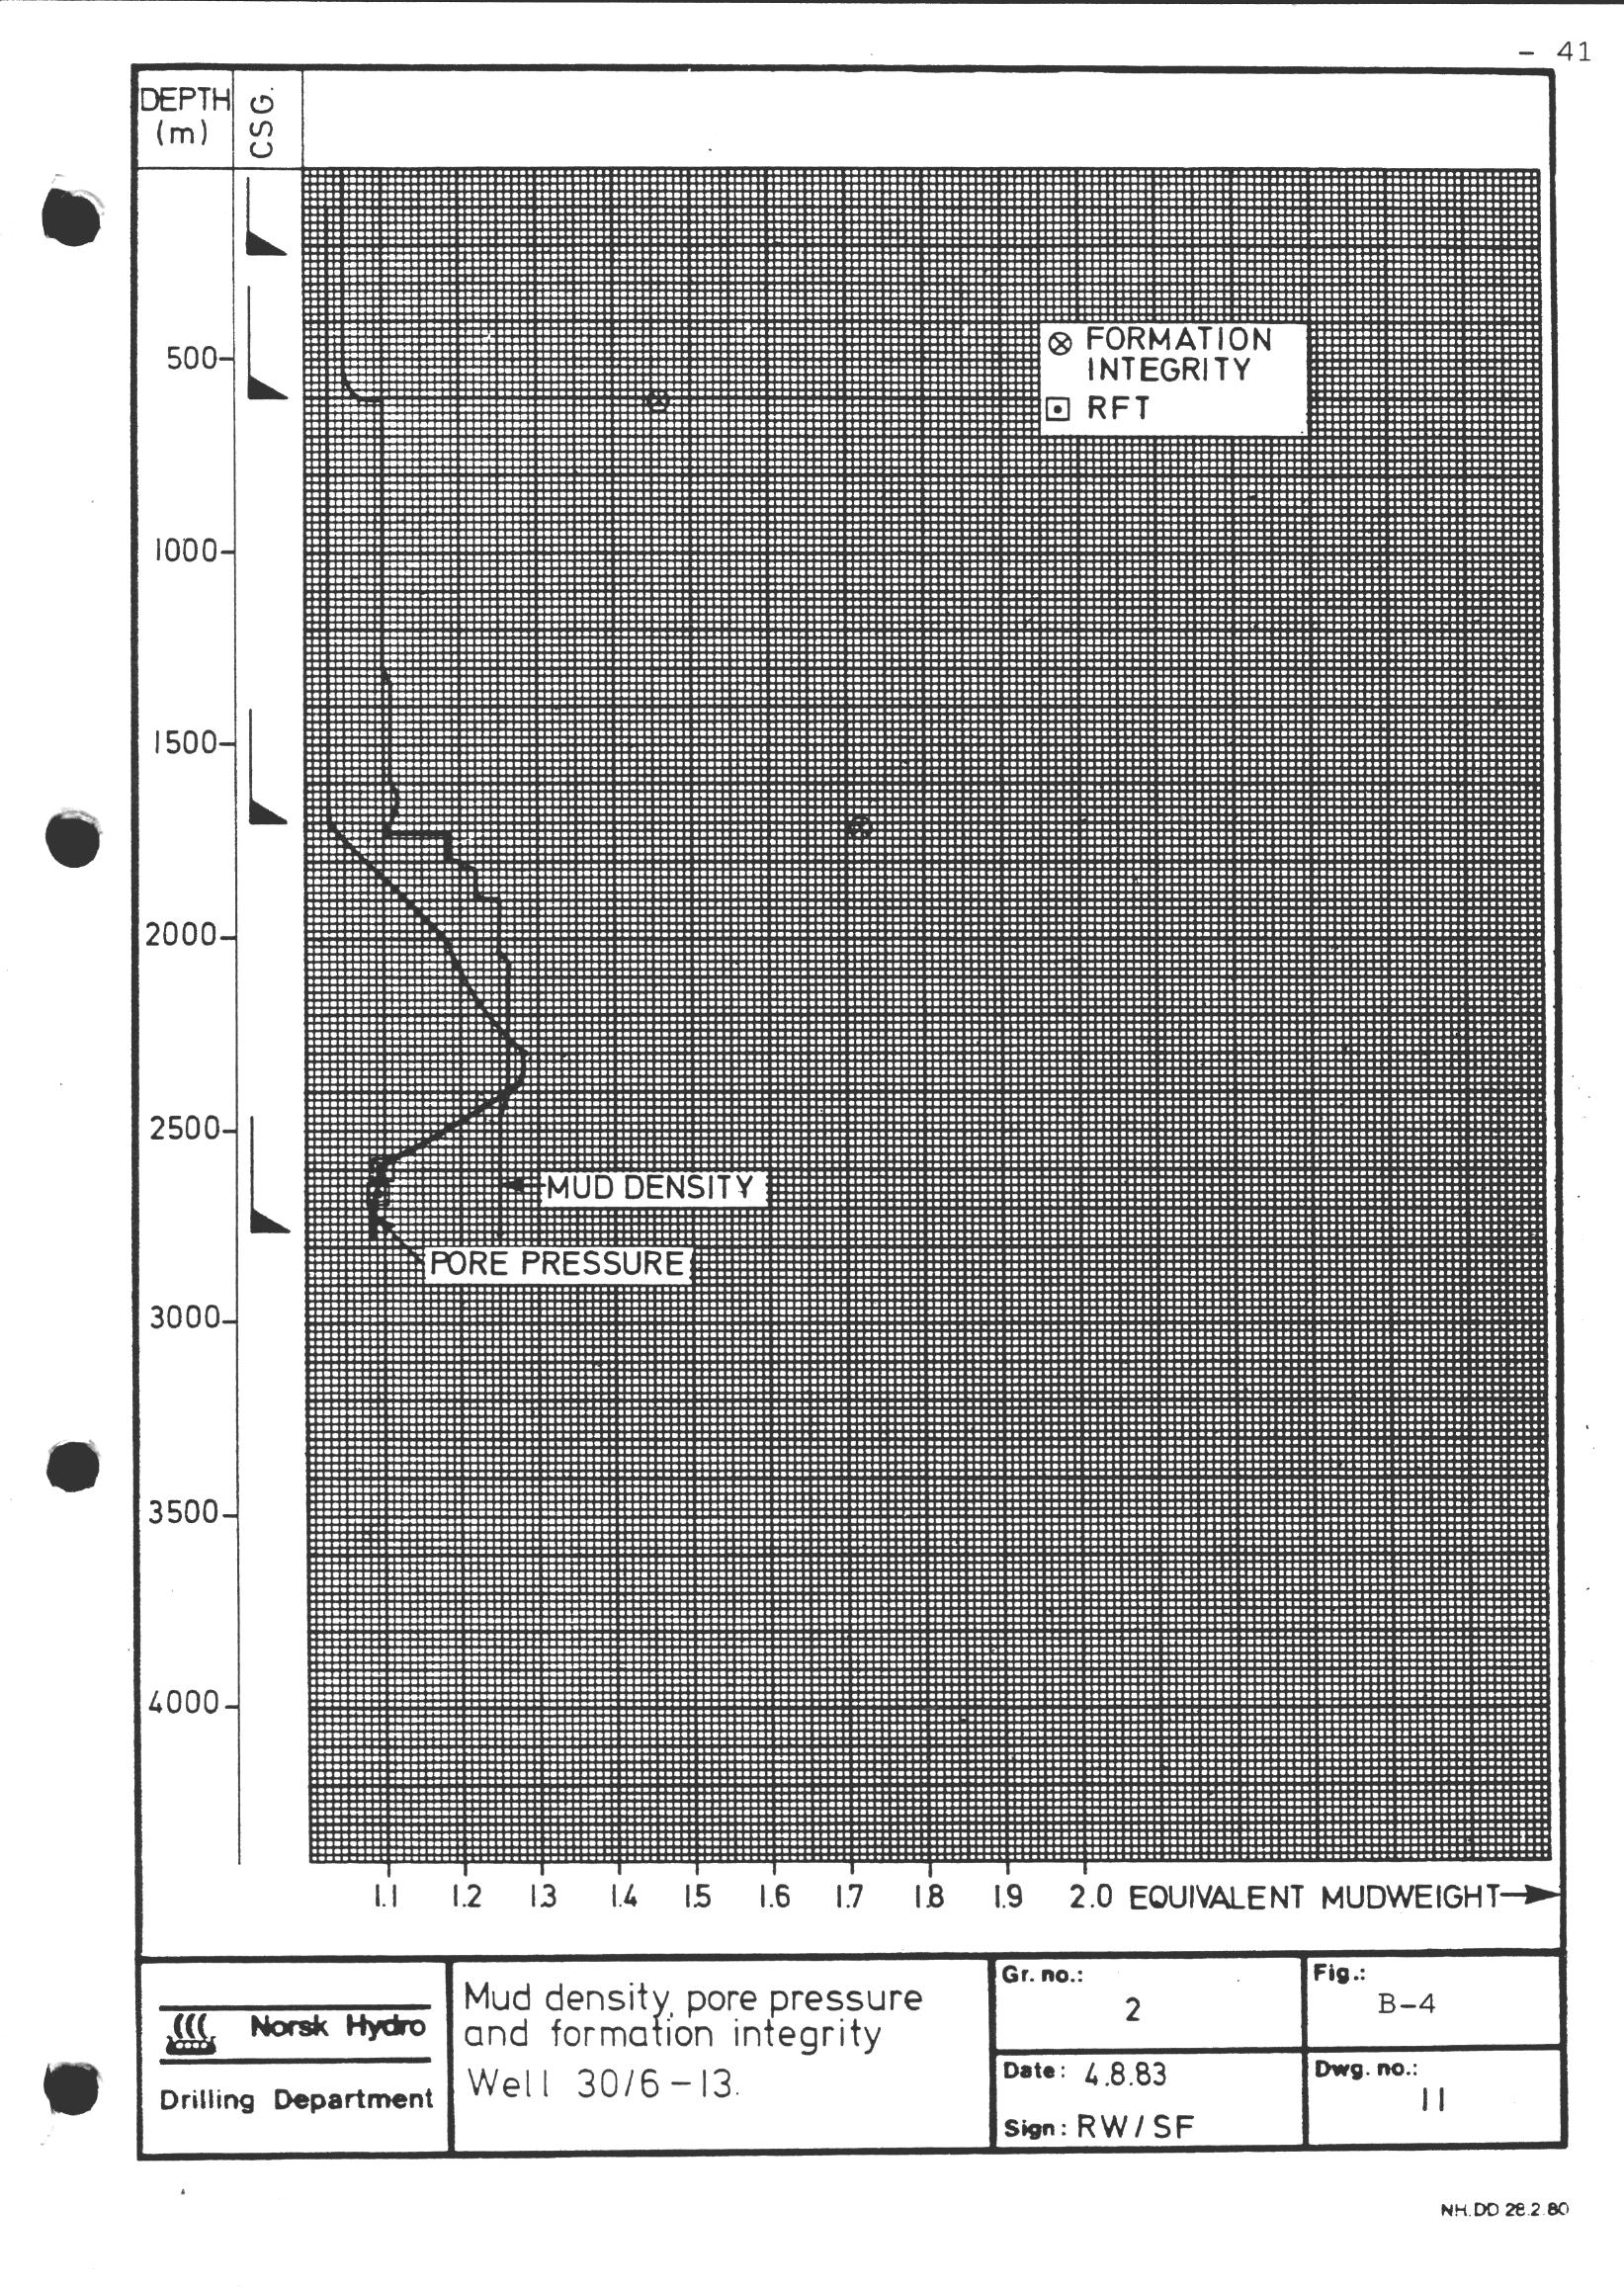graph: (107, 35, 1624, 2179)
